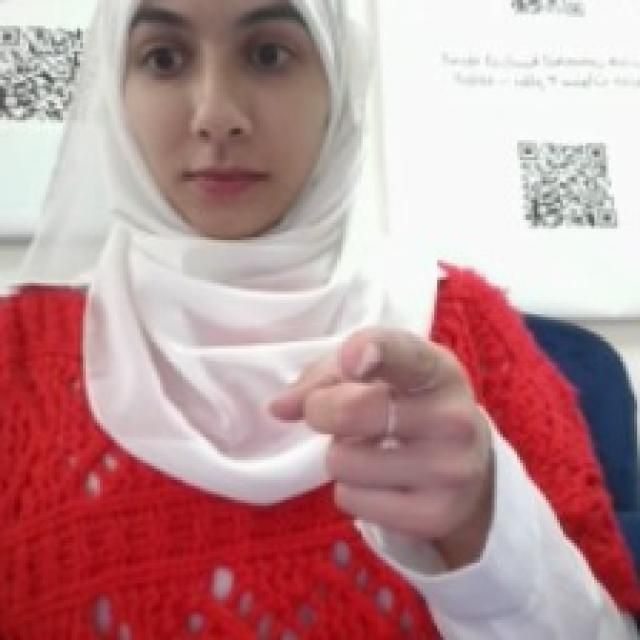you: (263, 317, 494, 546)
